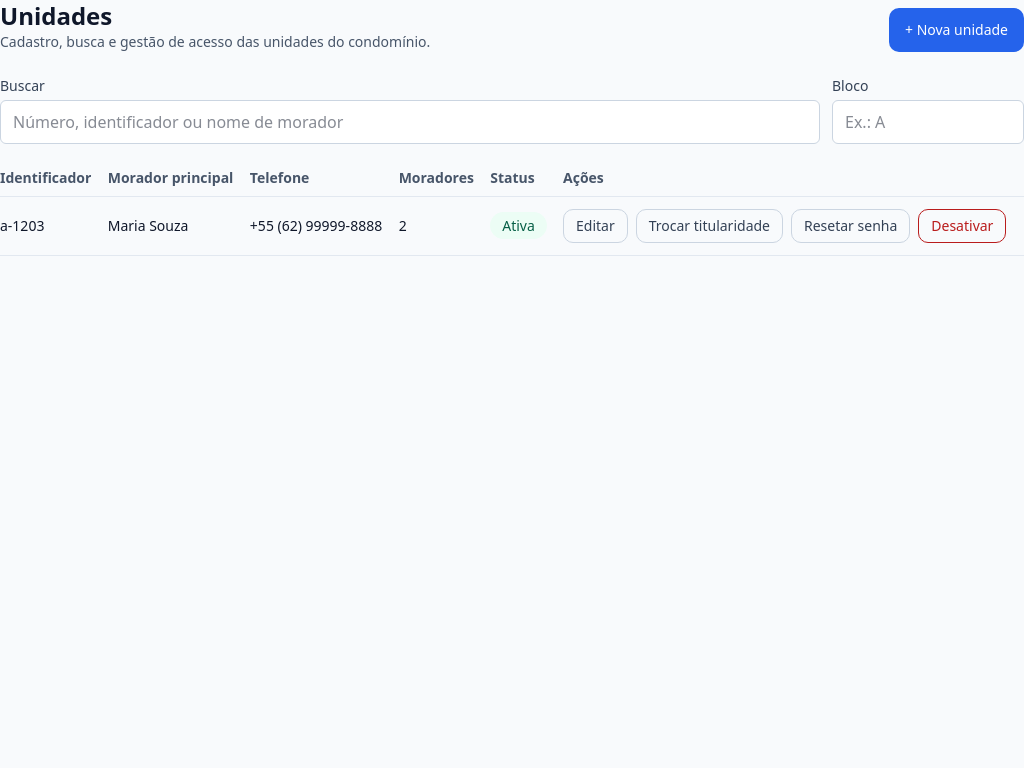
UnitsListPage › mostra o detalhe do 409 UNIT_HAS_FUTURE_RESERVATIONS com a lista de reservas
Step 1. Click the button "Desativar" → coordinates (962, 226), box 918,209 -> 1006,243
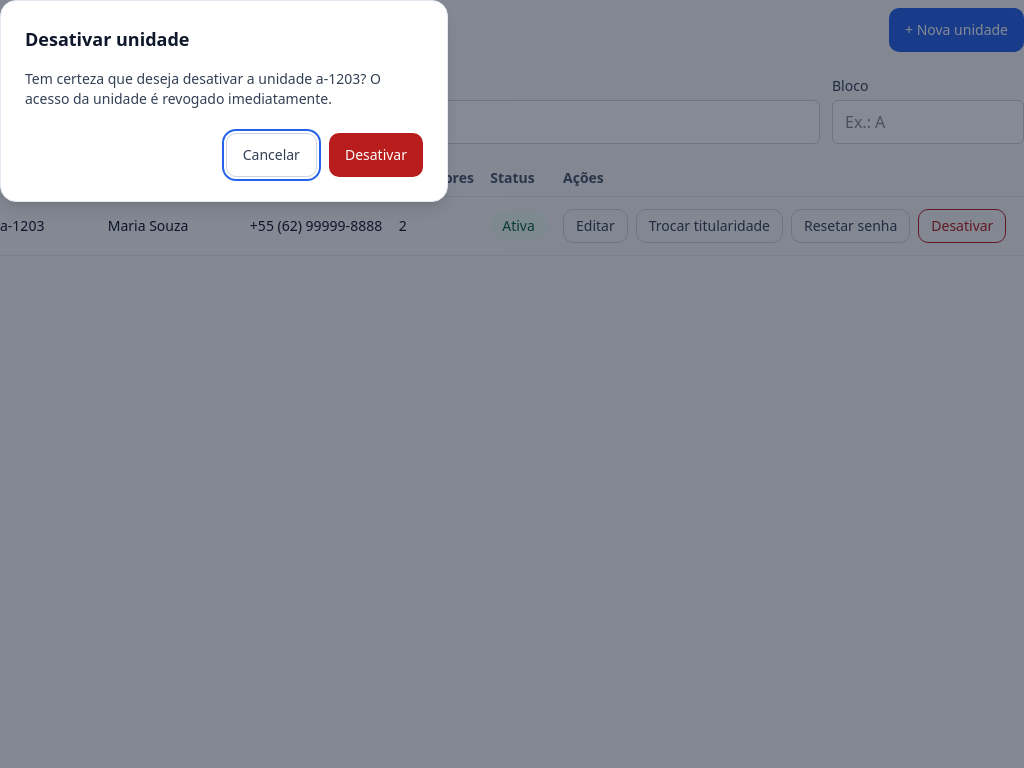
Step 2. Click the button "Desativar" → coordinates (376, 155), box 329,133 -> 423,177
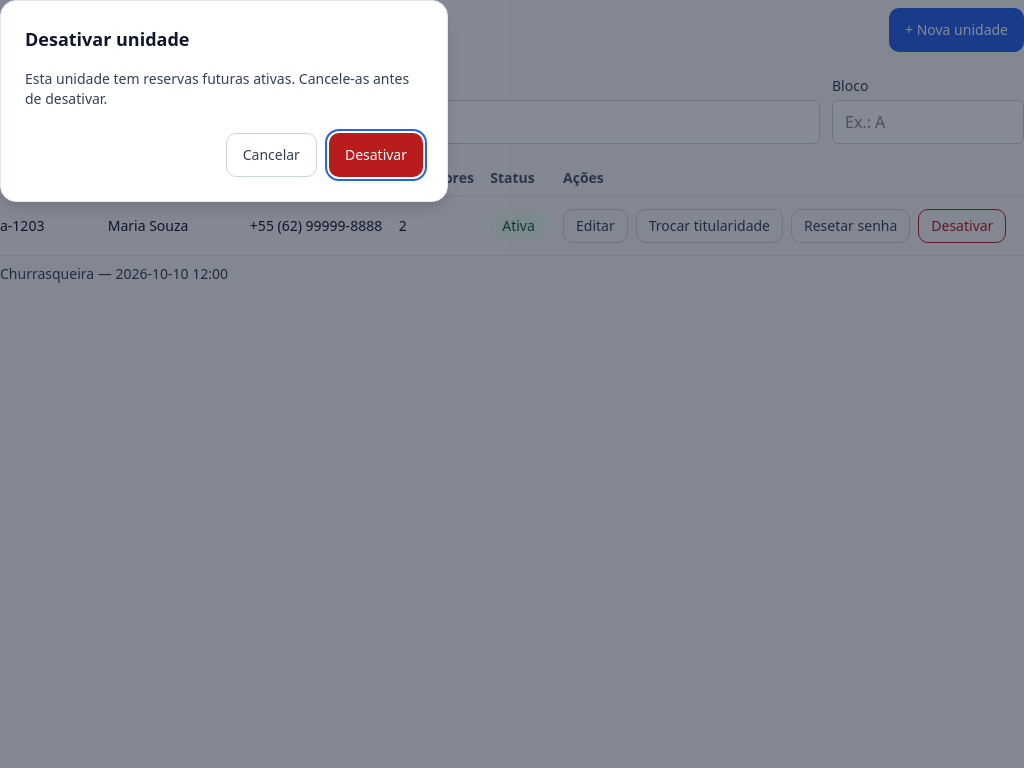
Expected: the text "Esta unidade tem reservas futuras ativas. Cancele-as antes de desativar." is shown, 25,69 -> 423,109
Expected: the list item "Churrasqueira — 2026-10-10 12:00" is shown, 0,264 -> 228,283
